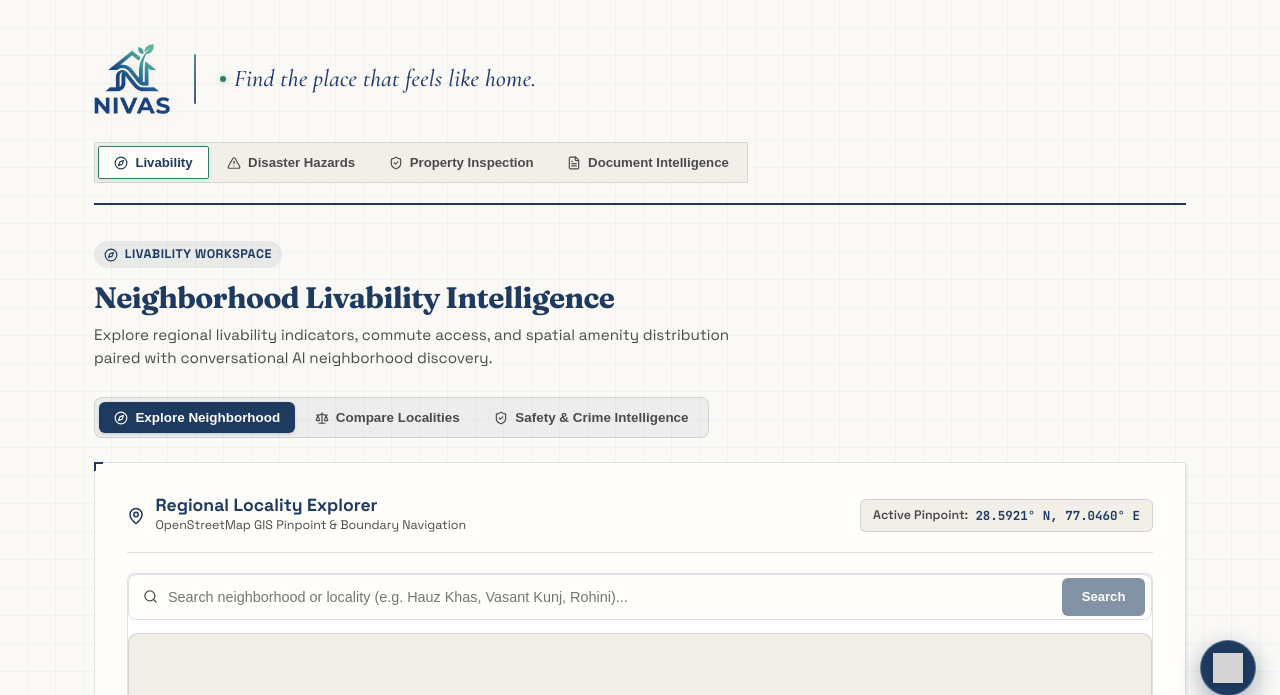
it: LivabilityWorkspace Shell & State Isolation › guarantees complete state isolation: Livability location changes never overwrite Single Inspection or Property Compare
Expected: the heading "Regional Locality Explorer" is shown, [155, 494, 378, 516]
# Change location in Livability to Hauz Khas
Replace the text in the field with placeholder "Search neighborhood or locality (e.g. Hauz Khas, Vasant Kunj, Rohini)..." with "Hauz Khas" at [615, 597], box [168, 579, 1062, 615]
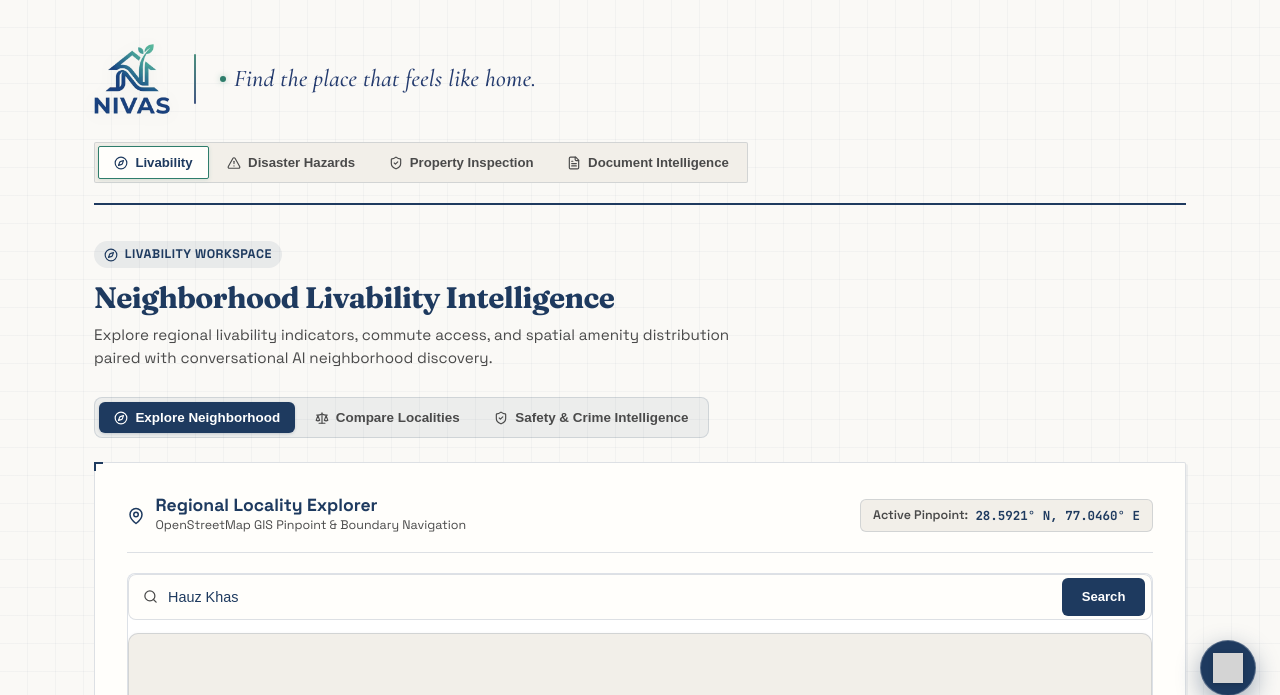
Click the button "Search" at [1104, 597], box [1062, 578, 1145, 616]
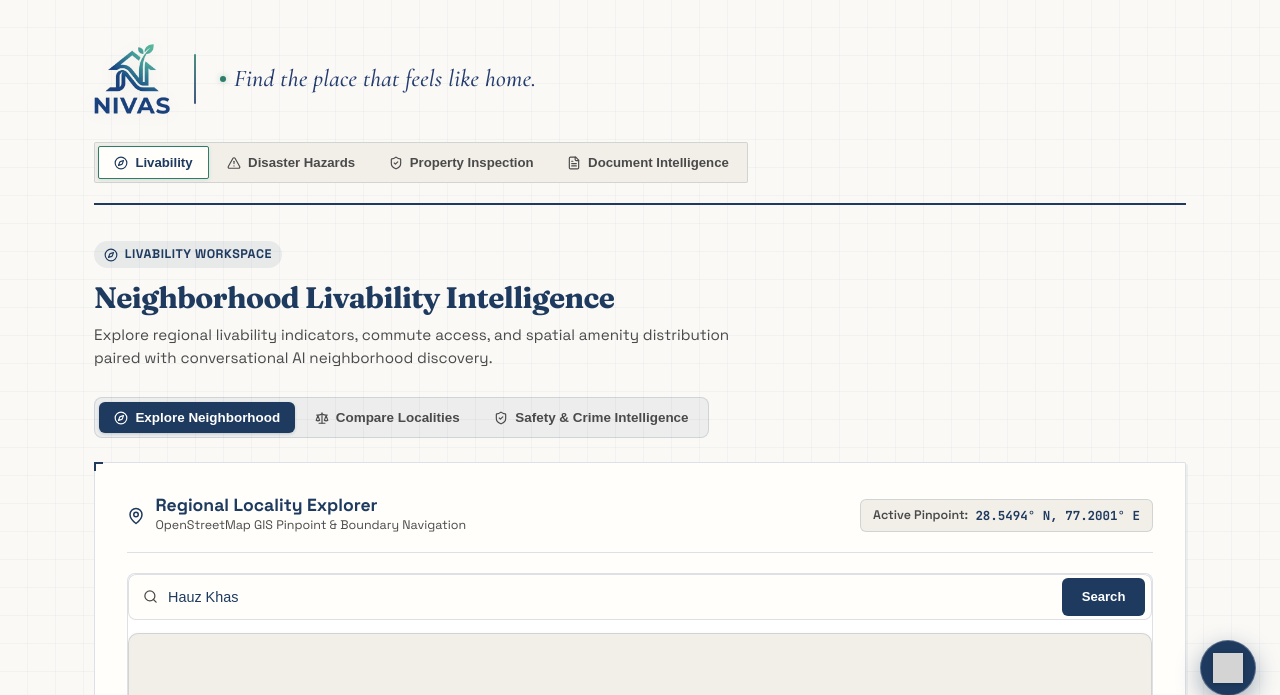
Now the text "28.5494° N, 77.2001° E" is shown, box [975, 506, 1140, 525]
# Switch to Property Inspection
Click the button "Property Inspection" at [461, 162], box [373, 146, 549, 179]
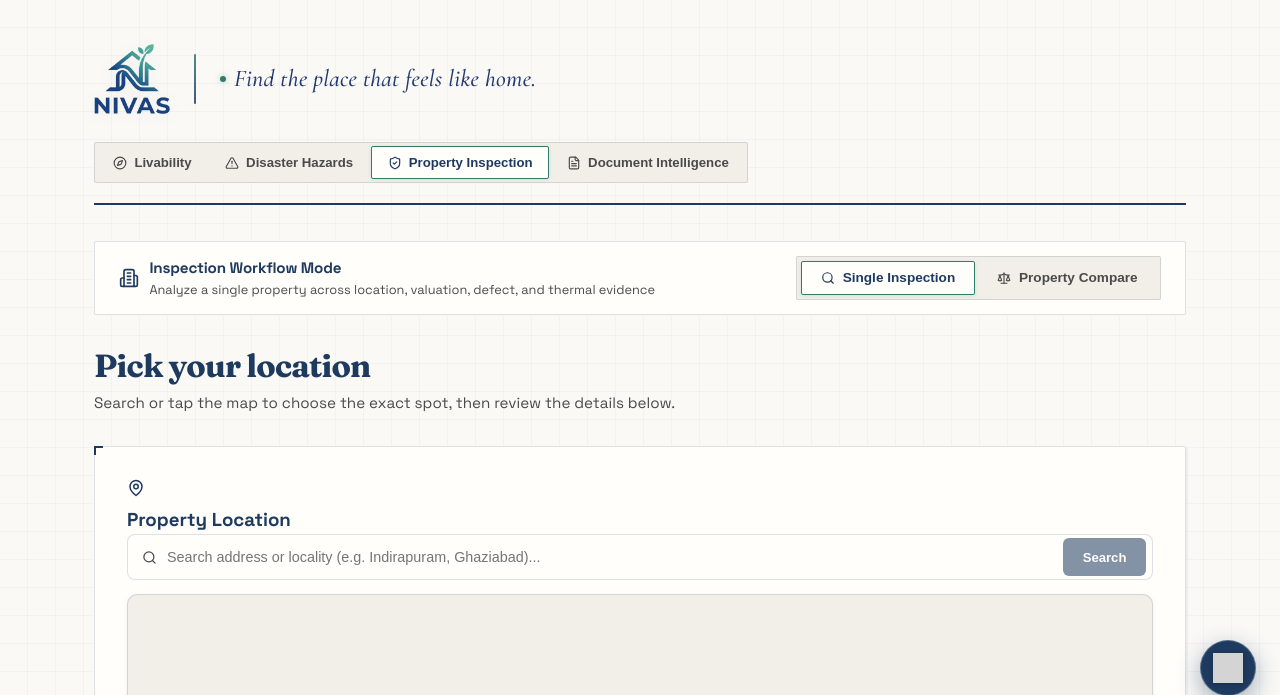
# Switch to Property Compare mode
Click the button "Property Compare" at [1067, 278], box [979, 261, 1156, 295]
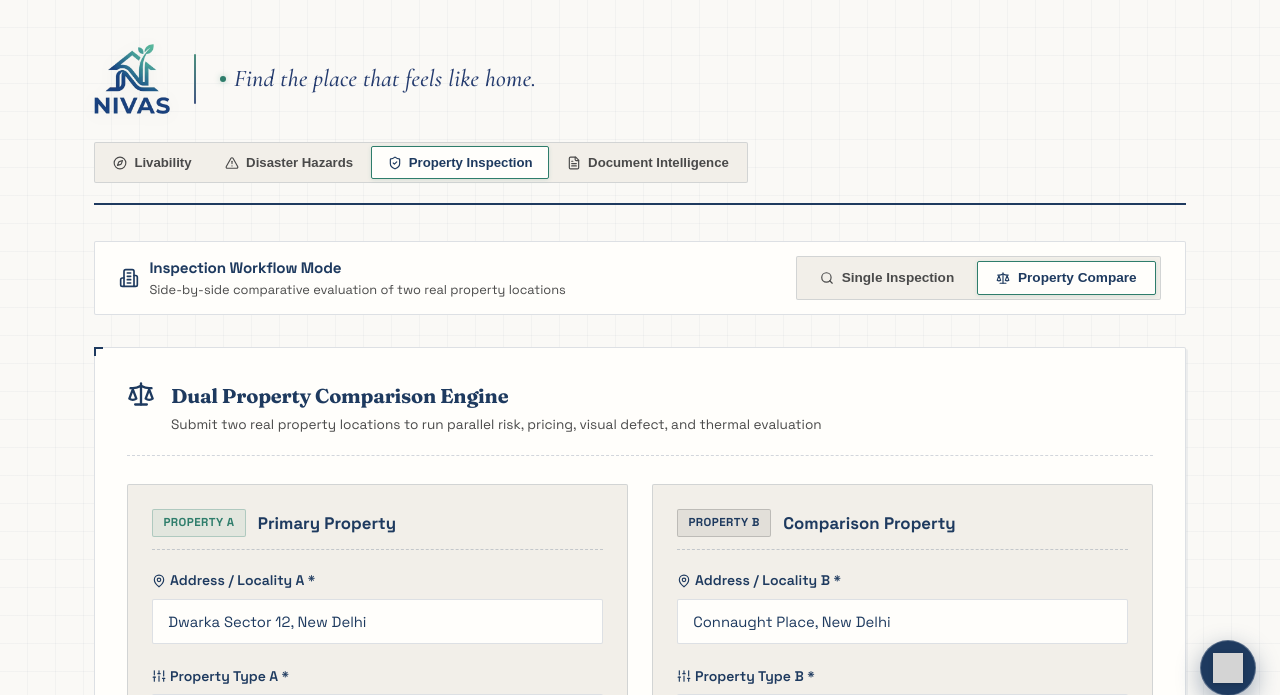
Now the field showing "Dwarka Sector 12, New Delhi" is shown, box [152, 599, 603, 644]
Now the field showing "Connaught Place, New Delhi" is shown, box [677, 599, 1128, 644]
# Switch back to Livability: Livability retains its chosen location
Click the button "Livability" at [152, 162], box [98, 146, 207, 179]
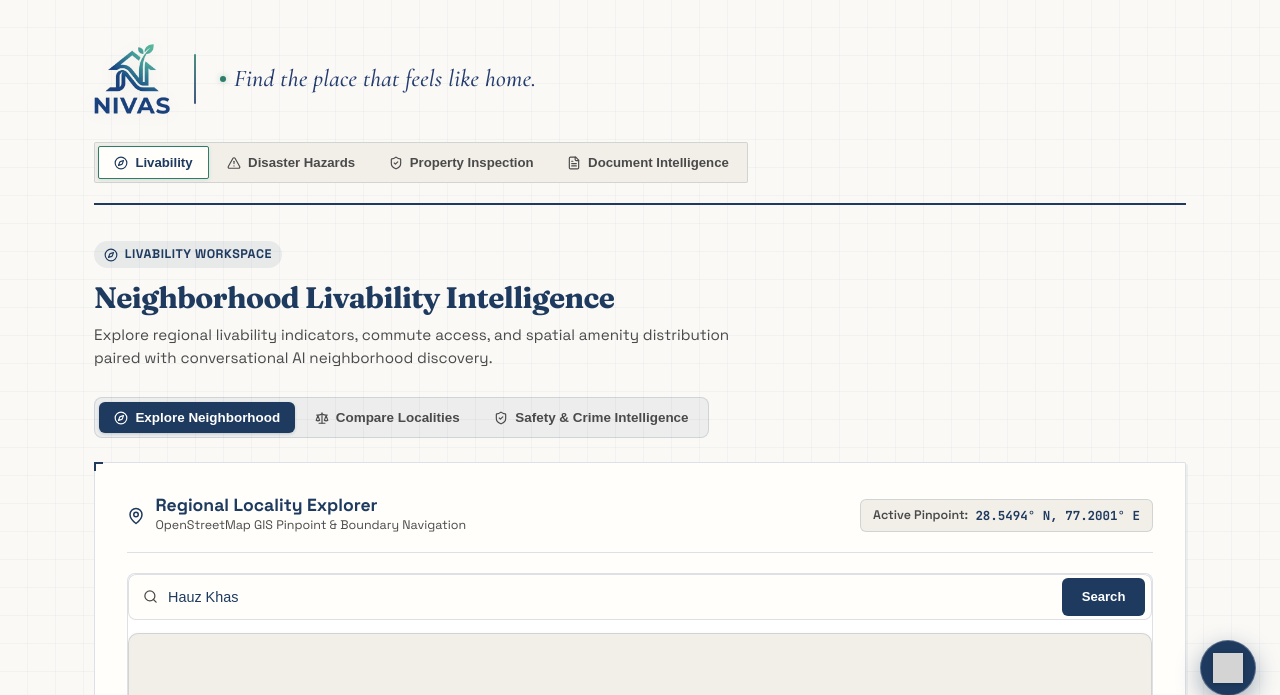
Now the text "28.5494° N, 77.2001° E" is shown, box [975, 506, 1140, 525]
